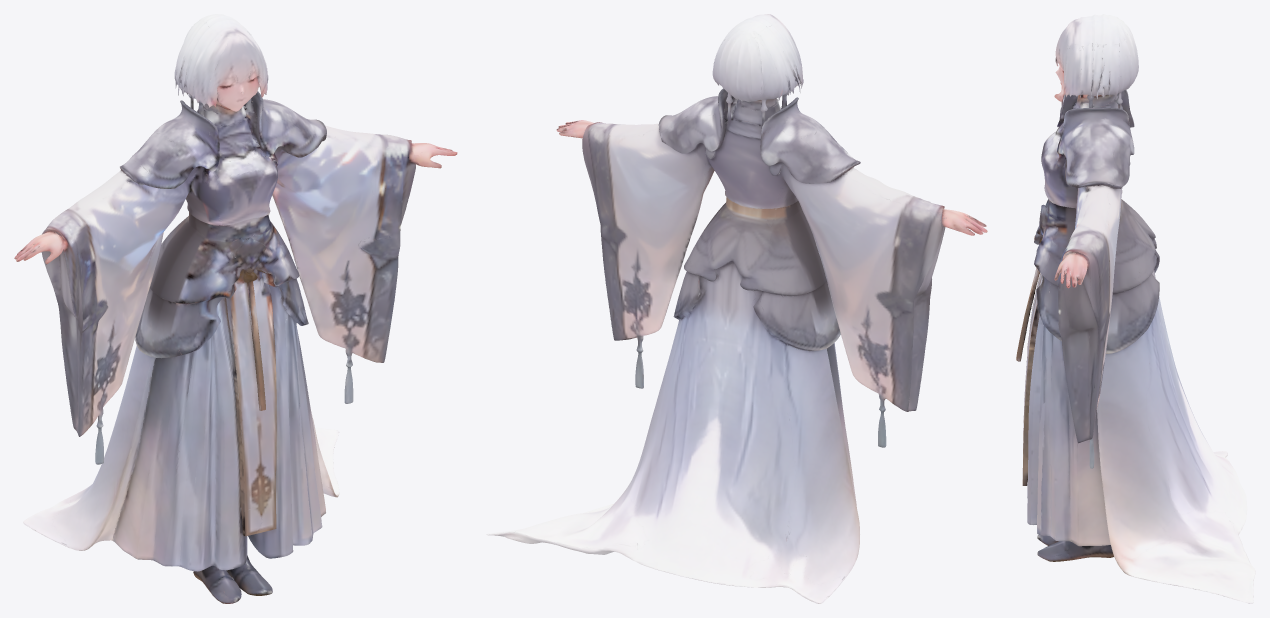
The model's file is base_basic_shaded.fbx.
The picture shows the model from 3 angles, left to right: view 1: azimuth 30°, elevation 25°; view 2: azimuth 150°, elevation 25°; view 3: azimuth 270°, elevation 25°; orthographic projection. The views are drawn at different scales.
Visible parts, largest first — view 1: model; view 2: model; view 3: model.
Boxes of the visible parts, box(x1,y1,x2,y2) form: model: box(14, 14, 457, 603); model: box(486, 14, 987, 603); model: box(1016, 14, 1255, 603).
Bounding box in the file's own units: 156 × 190 × 77.07.
